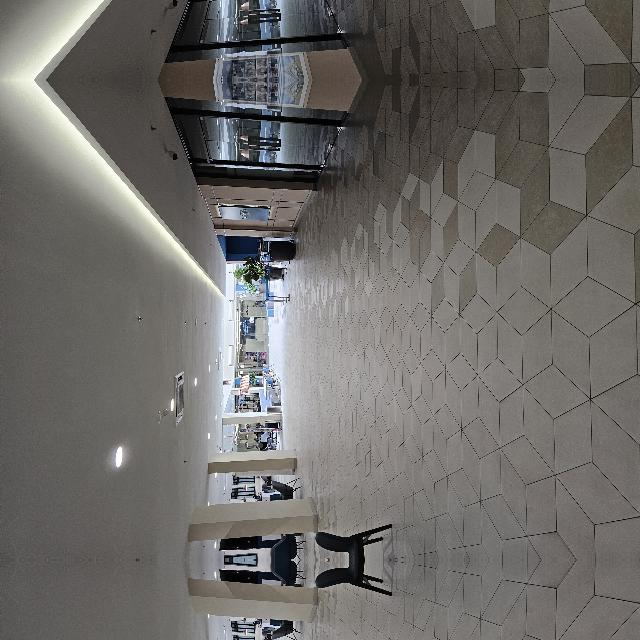door: (391, 274, 449, 420)
obstacle: (0, 385, 36, 472), (294, 339, 320, 376)
